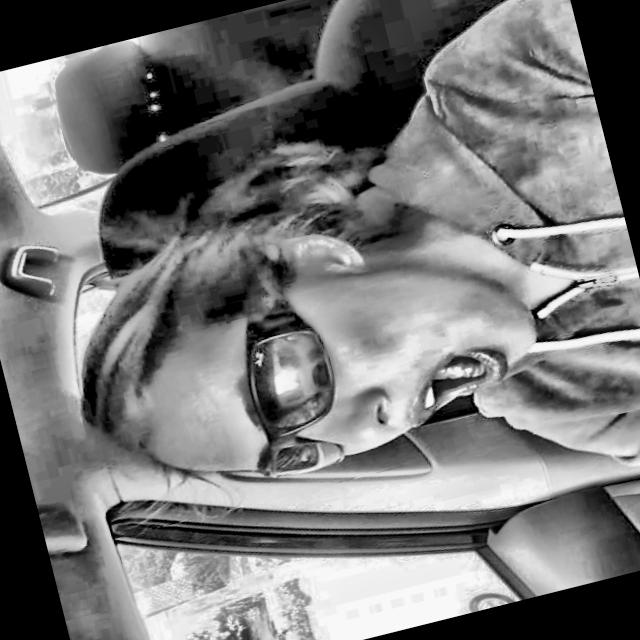open_mouth: (393, 327, 530, 444)
